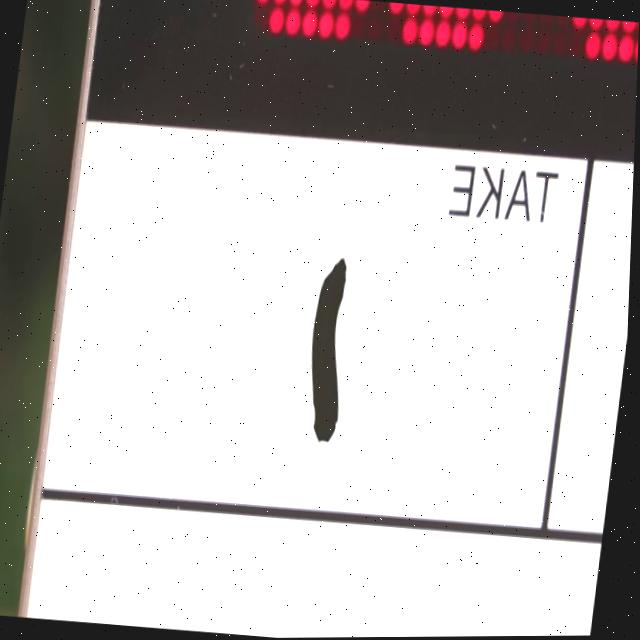Clapperboard: (10, 0, 640, 640)
